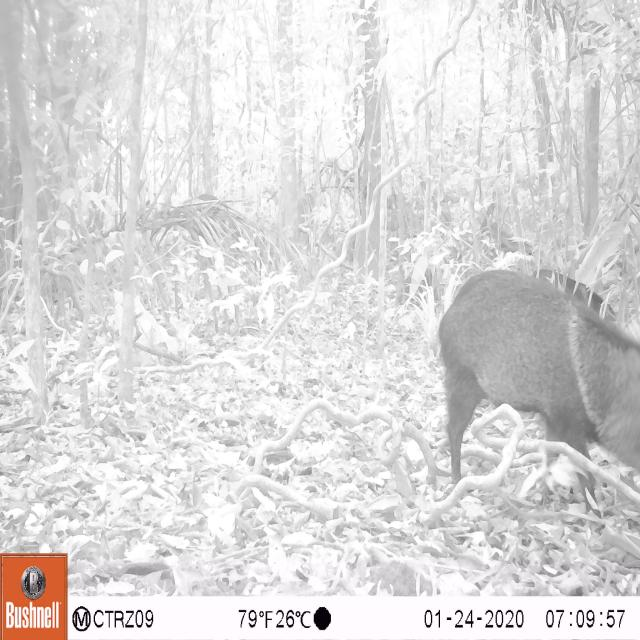Collared Peccary: (424, 259, 640, 486)
